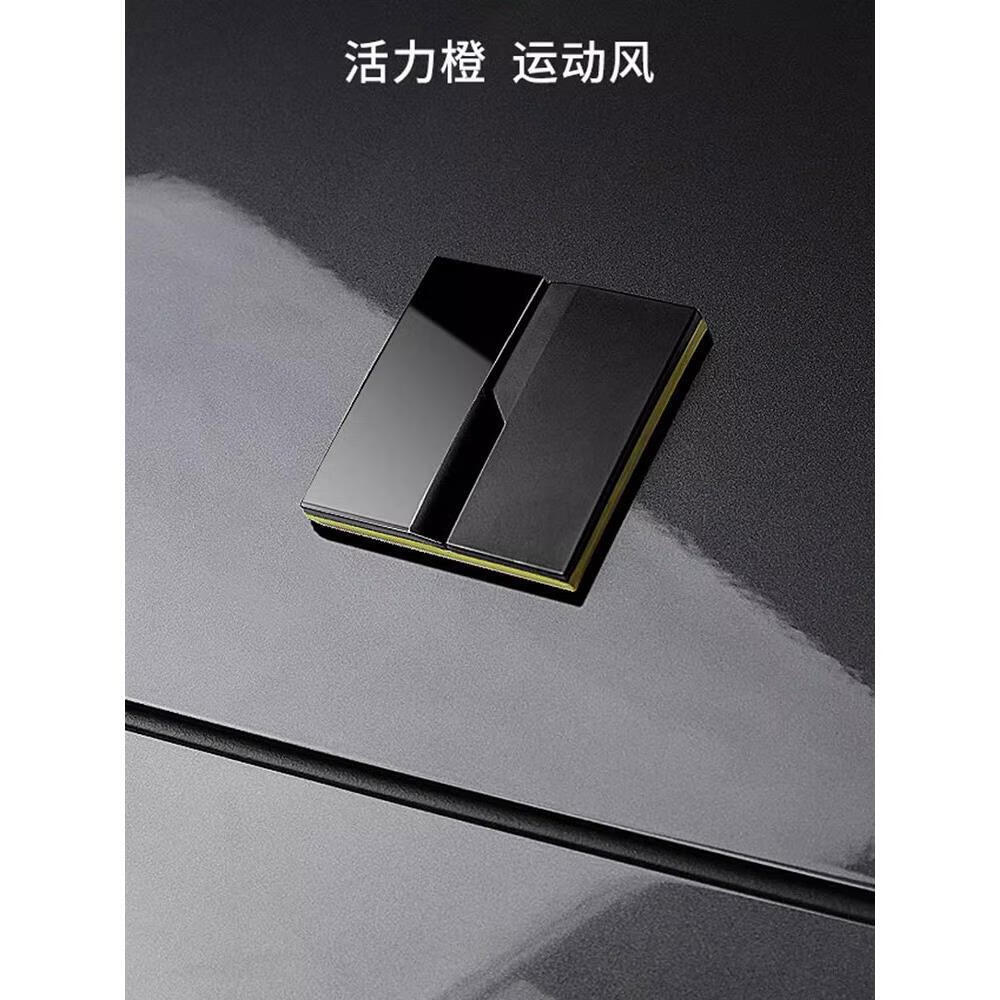LINK&CO: (301, 258, 707, 592)
